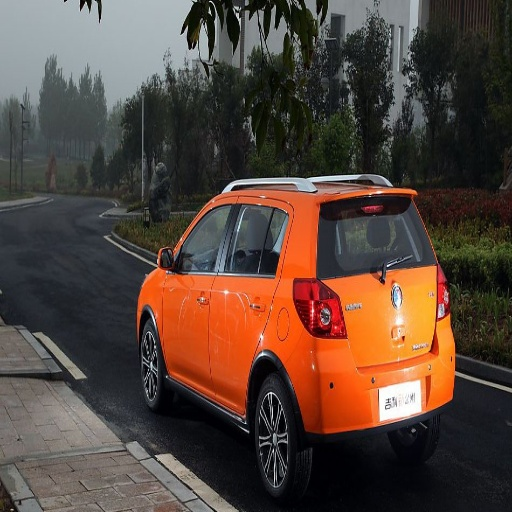back_bumper: (303, 339, 453, 434)
back_left_door: (212, 196, 287, 400)
trunk: (309, 248, 438, 396)
